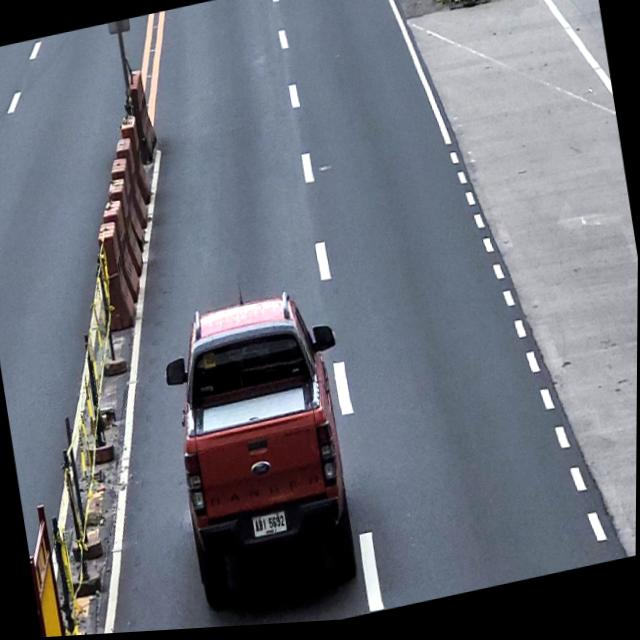Car: (155, 281, 375, 619)
License-Plate: (250, 510, 289, 542)
